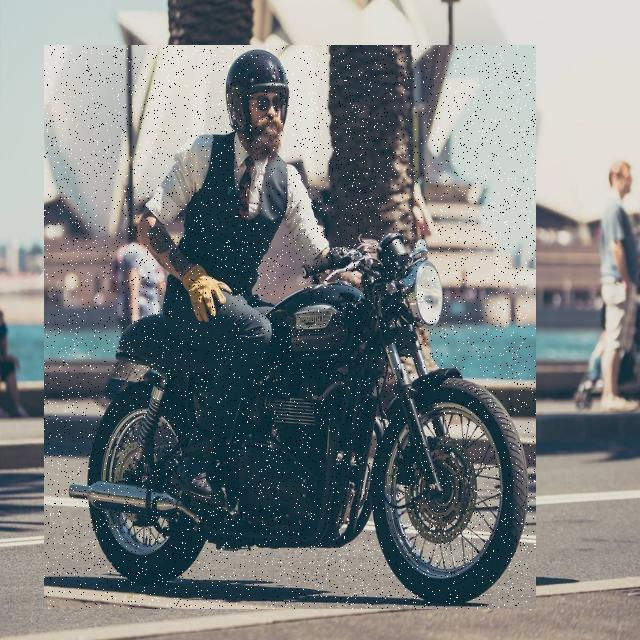With Helmet: (44, 45, 536, 609)
